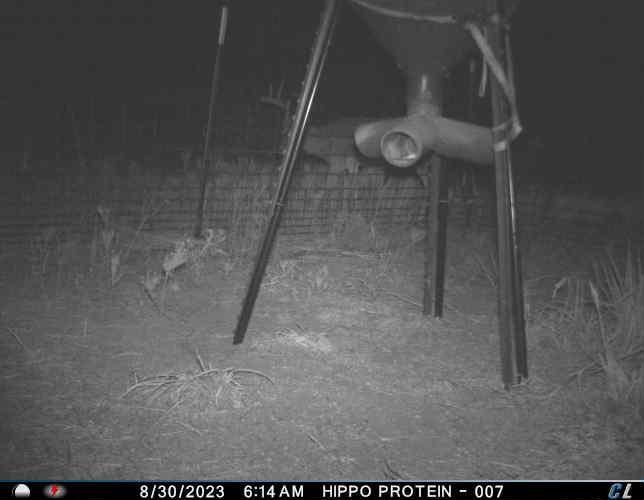Deer: (255, 75, 428, 211)
